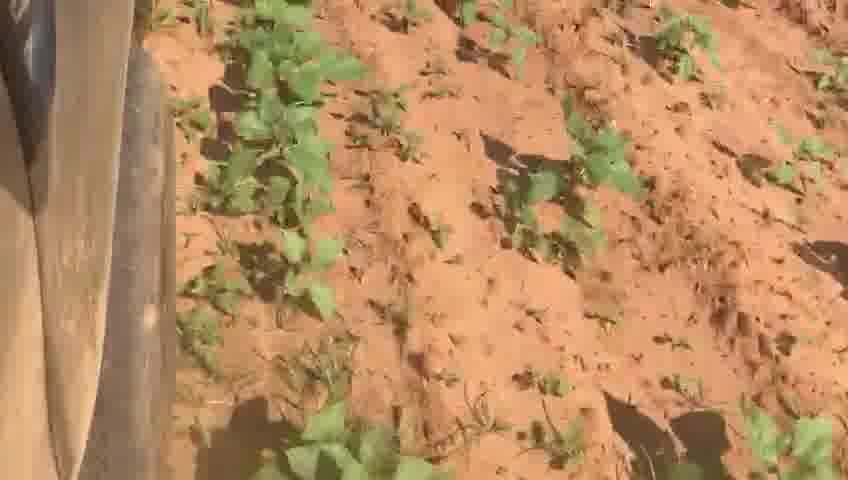sunflower: (236, 404, 451, 478), (208, 109, 335, 221), (226, 17, 357, 112), (558, 108, 641, 235), (718, 389, 838, 476), (264, 226, 344, 322), (467, 9, 546, 82), (766, 125, 842, 199), (654, 8, 729, 79)
